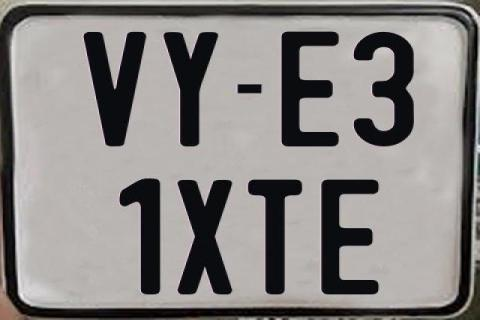0: (353, 31, 419, 149), (118, 176, 162, 294)
E: (280, 29, 344, 149), (320, 178, 380, 296)
T: (245, 178, 304, 296)
V: (80, 32, 148, 150)
X: (175, 179, 233, 299)
Y: (161, 31, 222, 149)
